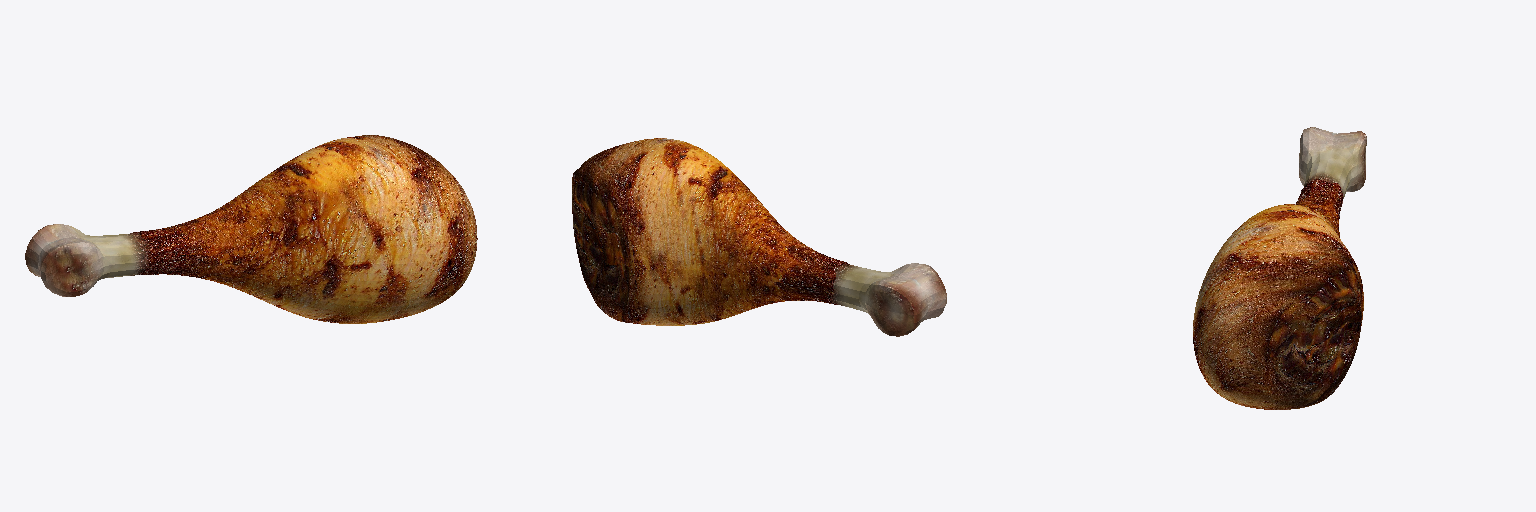
3 views of the same model, side by side, from view 1: azimuth 30°, elevation 25°; view 2: azimuth 150°, elevation 25°; view 3: azimuth 270°, elevation 25° (orthographic).
Size of the model in its own units: 0.1119 by 0.0466 by 0.043.
2 materials, 2 textured.